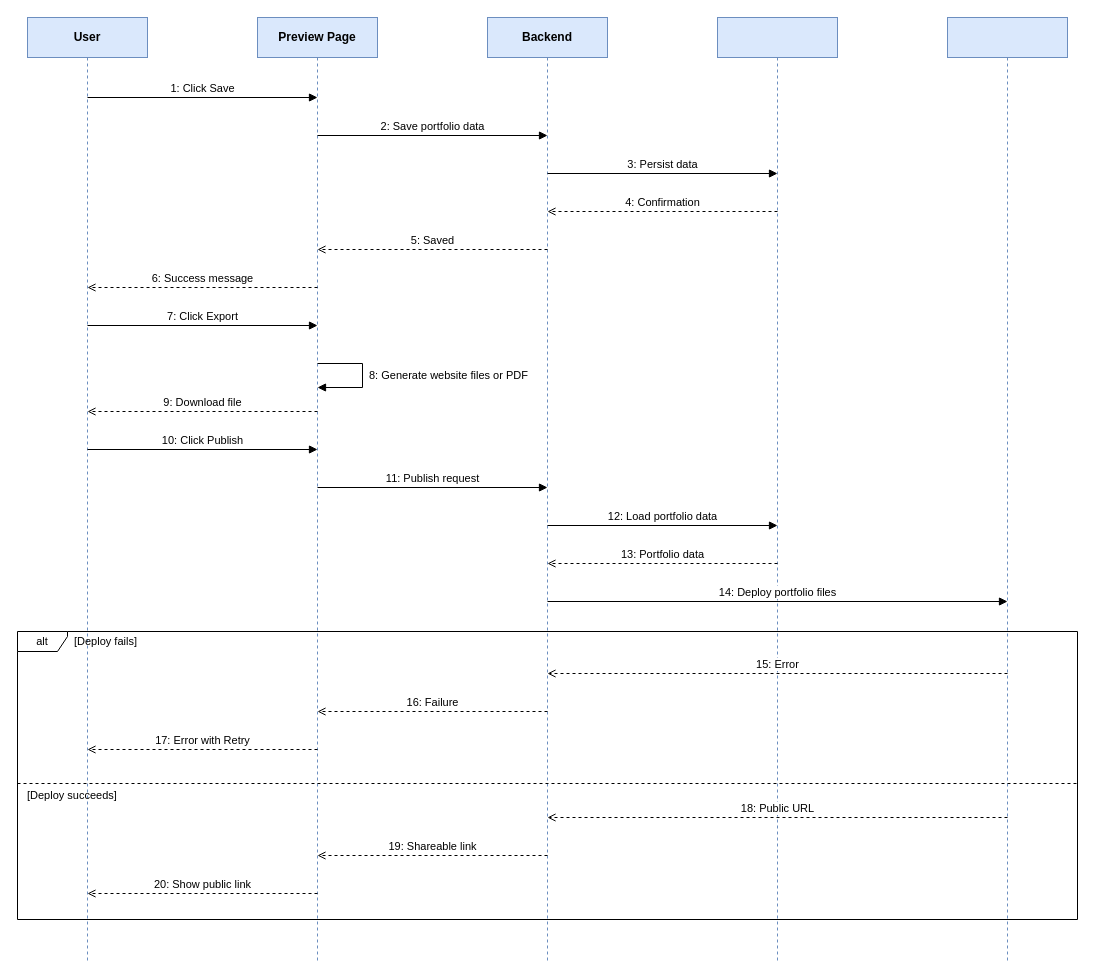
This 1096x979 diagram has some shape labels left out. Each missing label, with the box of its shape:
Data Store: (716, 16, 838, 962)
Hosting Service: (946, 16, 1068, 962)
